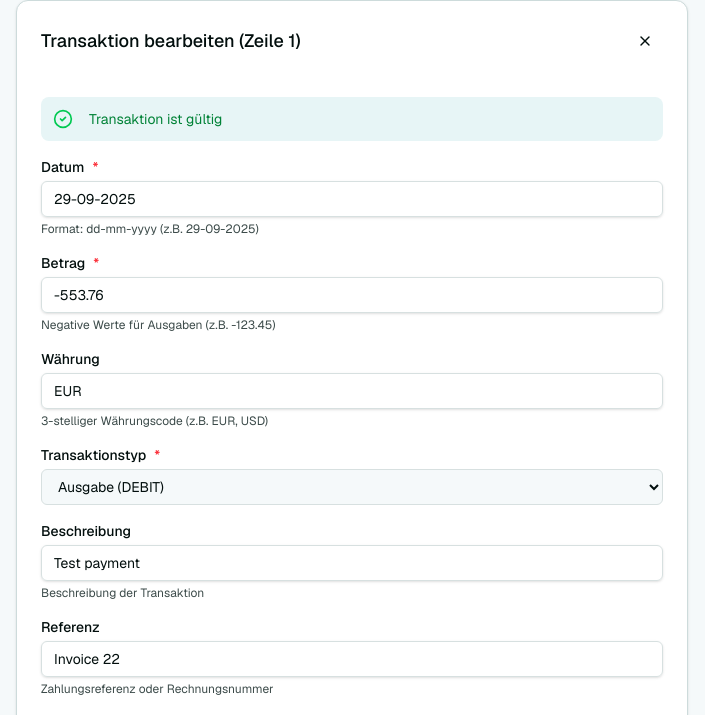
it: RowEditor › should update validation on field change
Expected: the text "Transaktion ist gültig" is shown, x1=89 y1=109 x2=222 y2=129
# Make invalid
Step 1. Replace the text in the field showing "29-09-2025" below "Datum" with "invalid-date" → (352, 199), box x1=41 y1=181 x2=663 y2=217
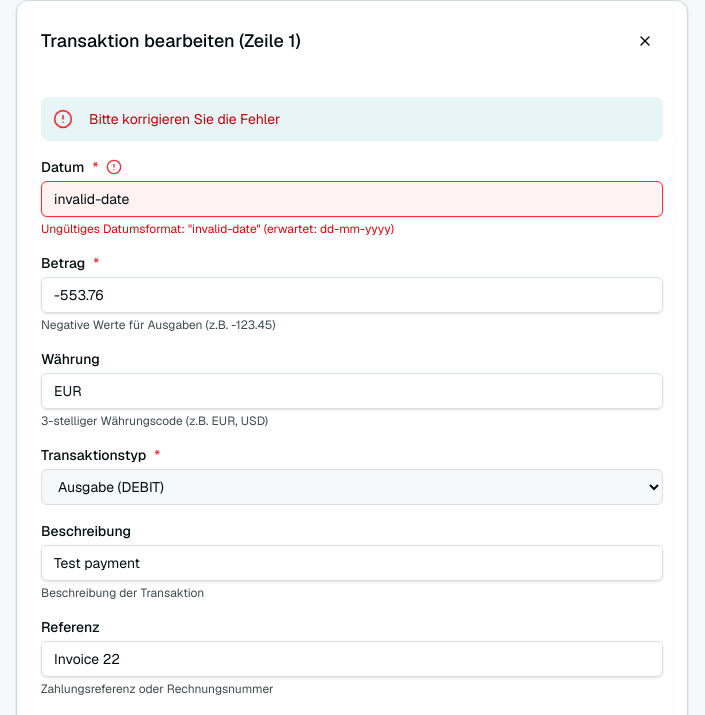
Expected: the text "Bitte korrigieren Sie die Fehler" is shown, x1=89 y1=109 x2=280 y2=129
